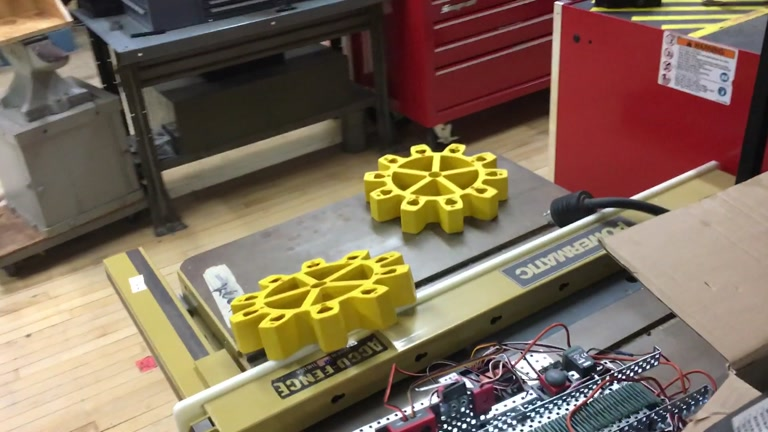gear: (228, 249, 415, 361), (363, 143, 508, 235)
